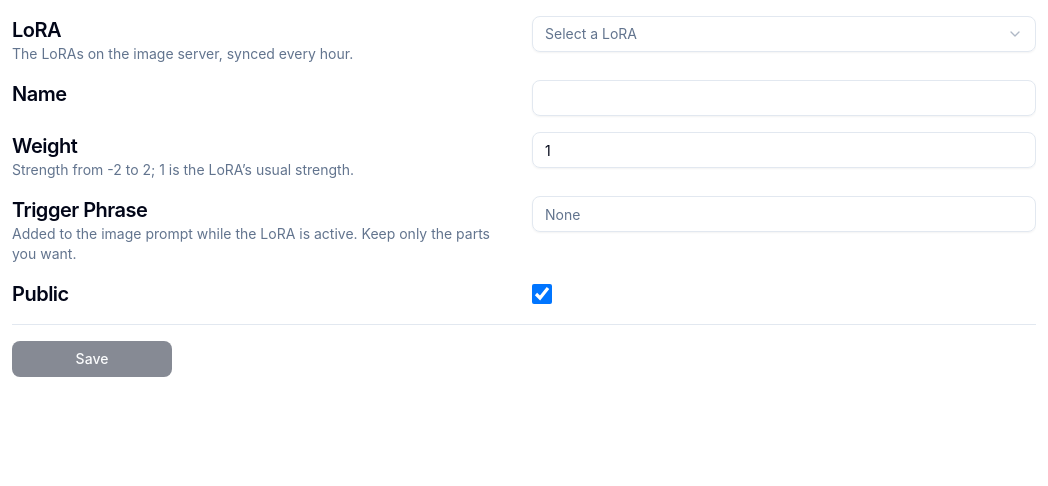
Scenario: LoraForm › WhenTheLoraIsIncompatible_ShouldWarnAndShowItsUsageHint
Click the dropdown labelled "LoRA" at (591, 34), box [532,16,1036,52]
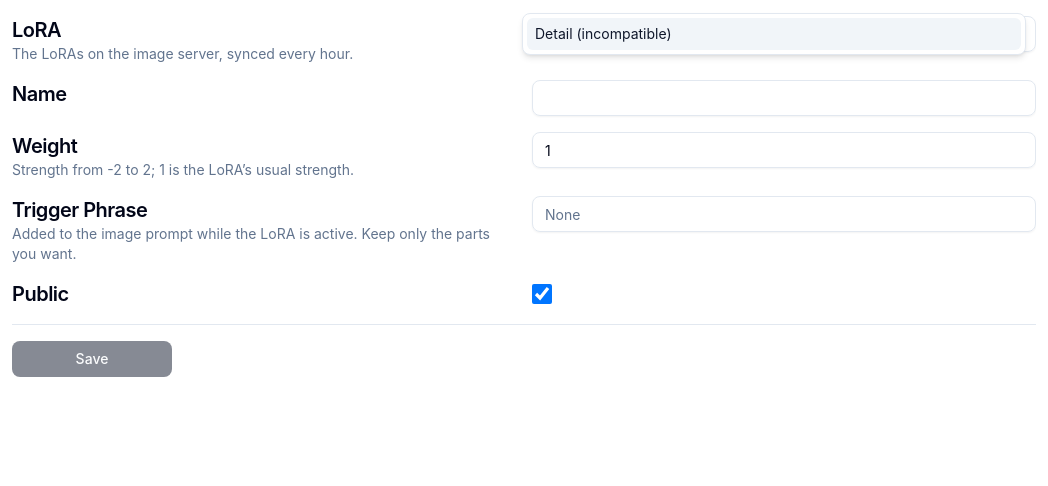
Click the option "Detail (incompatible)" at (554, 34), box [527,18,1021,50]
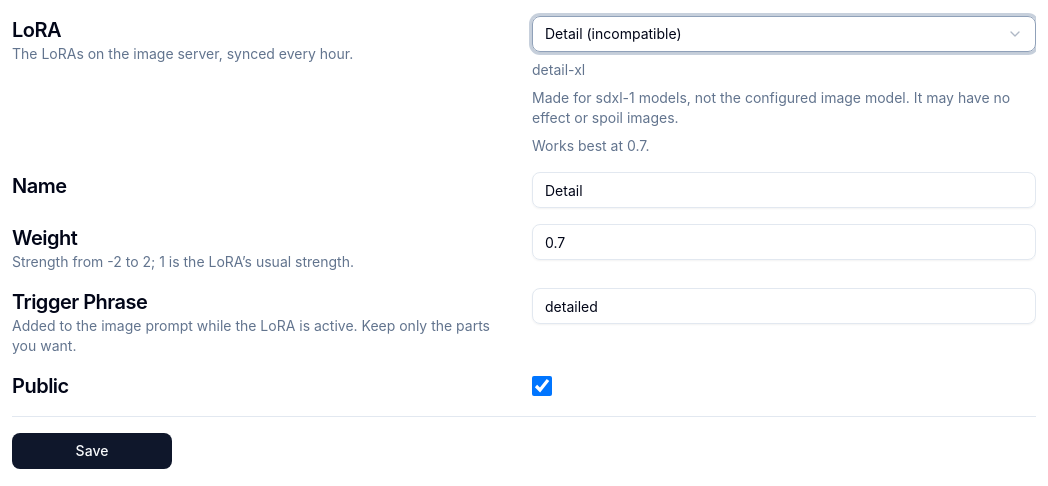
Result: the text "Made for sdxl-1 models" is shown at [532,88,1036,128]
Result: the text "Works best at 0.7." is shown at [532,137,650,154]
